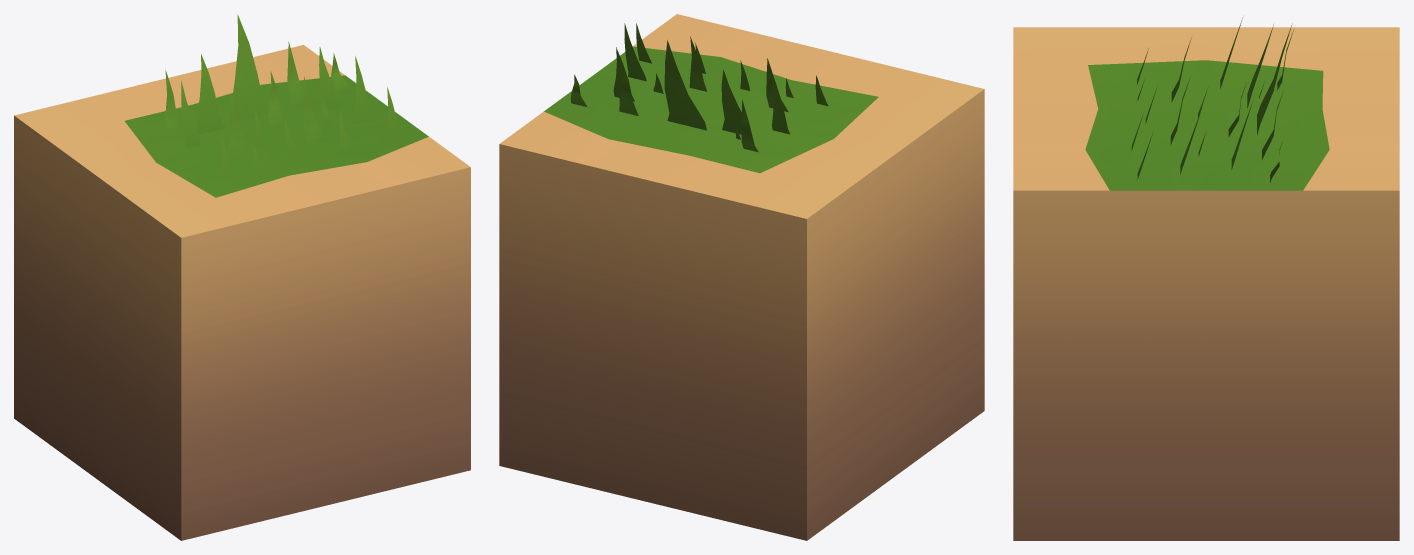
File: threesidea m tile.fbx
3 renders of one model, left to right at view 1: azimuth 30°, elevation 25°; view 2: azimuth 150°, elevation 25°; view 3: azimuth 270°, elevation 25°, orthographic. The views are drawn at different scales.
Visible parts, largest first — view 1: thsidea_m_tile, thsidea_m_grass; view 2: thsidea_m_tile, thsidea_m_grass; view 3: thsidea_m_tile, thsidea_m_grass.
Boxes of the visible parts, x1,y1,x2,y2 form: thsidea_m_tile: (14,45,470,540); thsidea_m_grass: (165,14,398,175); thsidea_m_tile: (499,14,984,540); thsidea_m_grass: (570,23,828,152); thsidea_m_tile: (1013,27,1399,540); thsidea_m_grass: (1131,18,1293,182).
Bounding box in the file's own units: 10 × 13.03 × 10.
